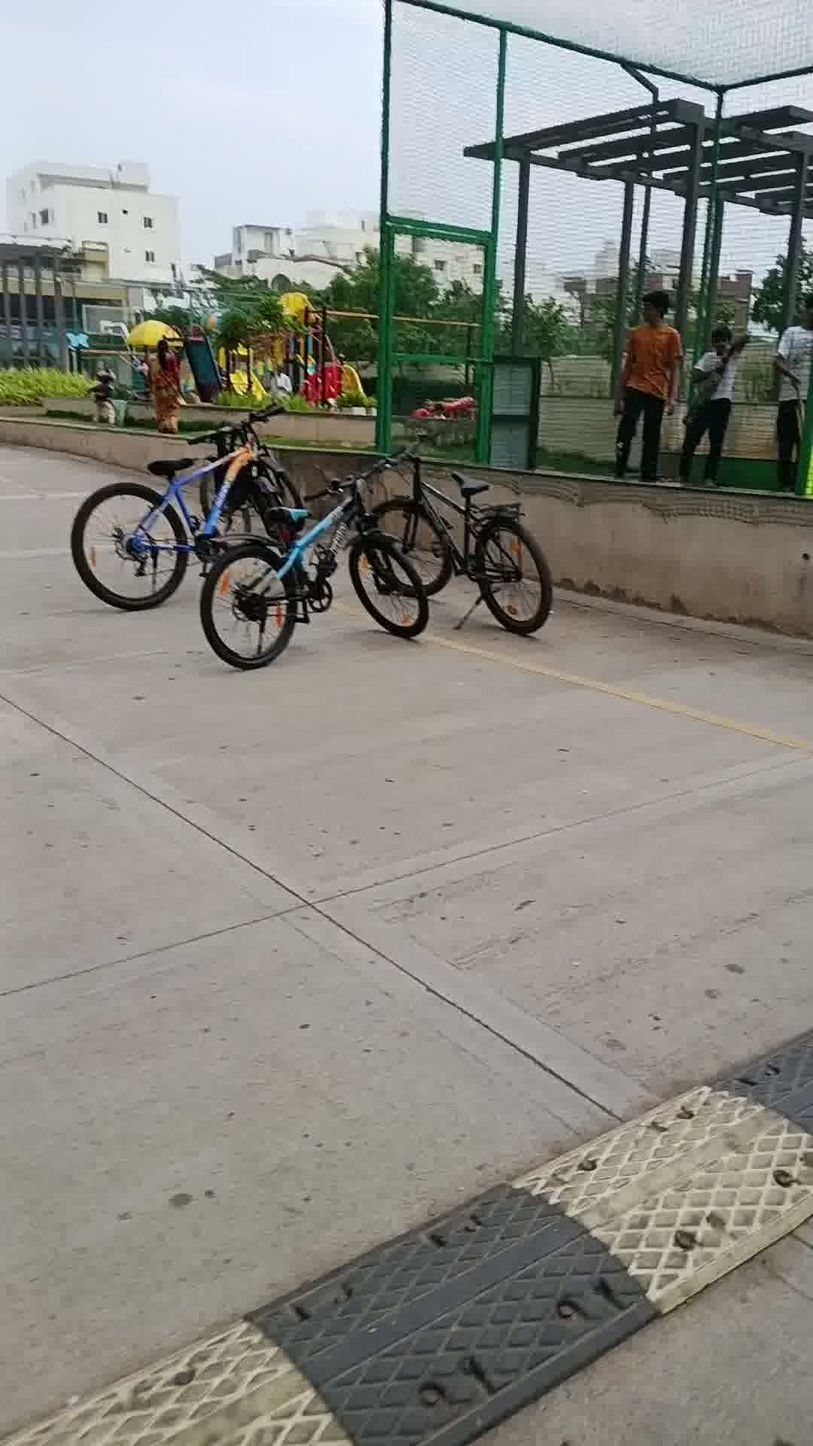bicycle: (57, 399, 322, 603), (182, 475, 430, 689), (373, 416, 569, 626)
person: (615, 256, 683, 518), (683, 285, 754, 510), (754, 273, 813, 512), (131, 307, 193, 453)
